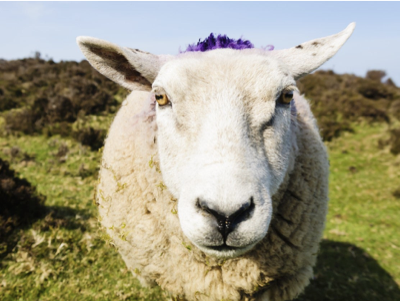koyun: (75, 34, 351, 295)
